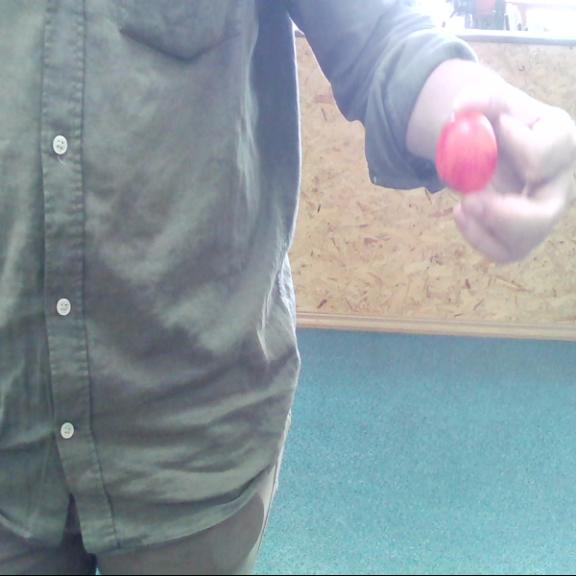ball: (432, 107, 501, 194)
